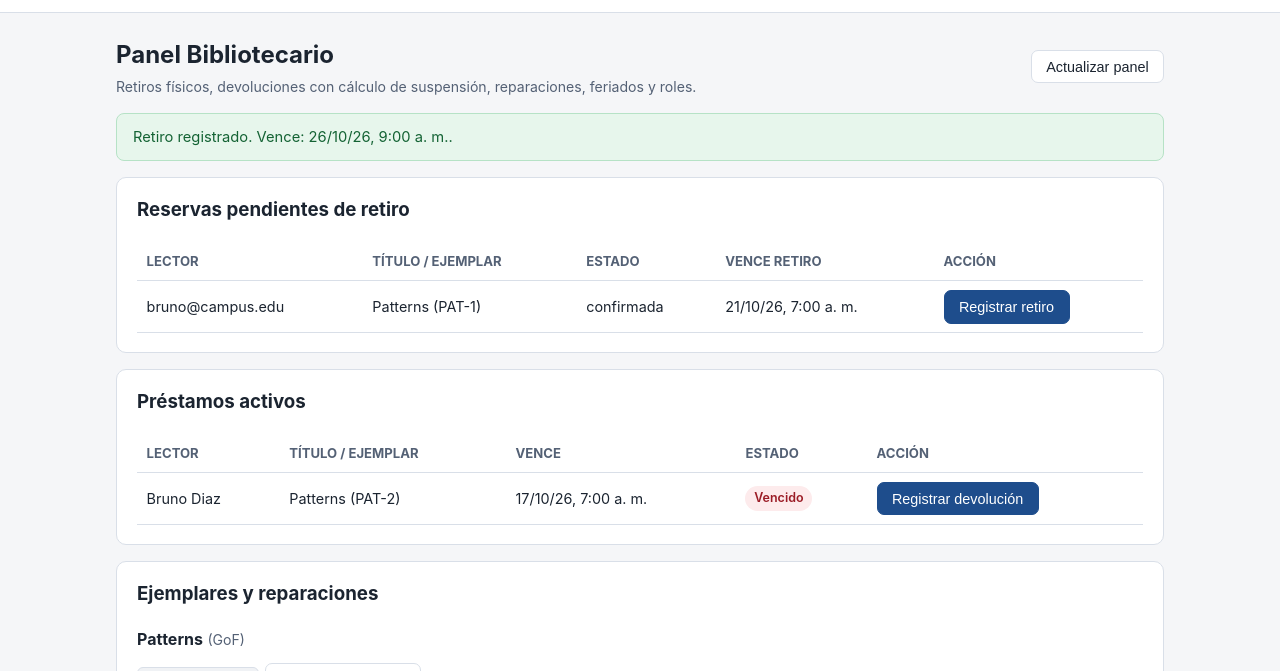
T-17 — Panel de Bibliotecario › permite al Bibliotecario registrar retiro, devolución, reparación, feriado y cambio de rol
This screenshot has width=1280, height=671.
Earlier steps of the test are not shown.
expect the text "Retiro registrado. Vence: 26/10/26, 9:00 a. m.." is shown: met, box 116,113 -> 1164,161
Click the button "Registrar devolución". click: (958, 499)
box: 877,482 -> 1039,515
(page scrolled)
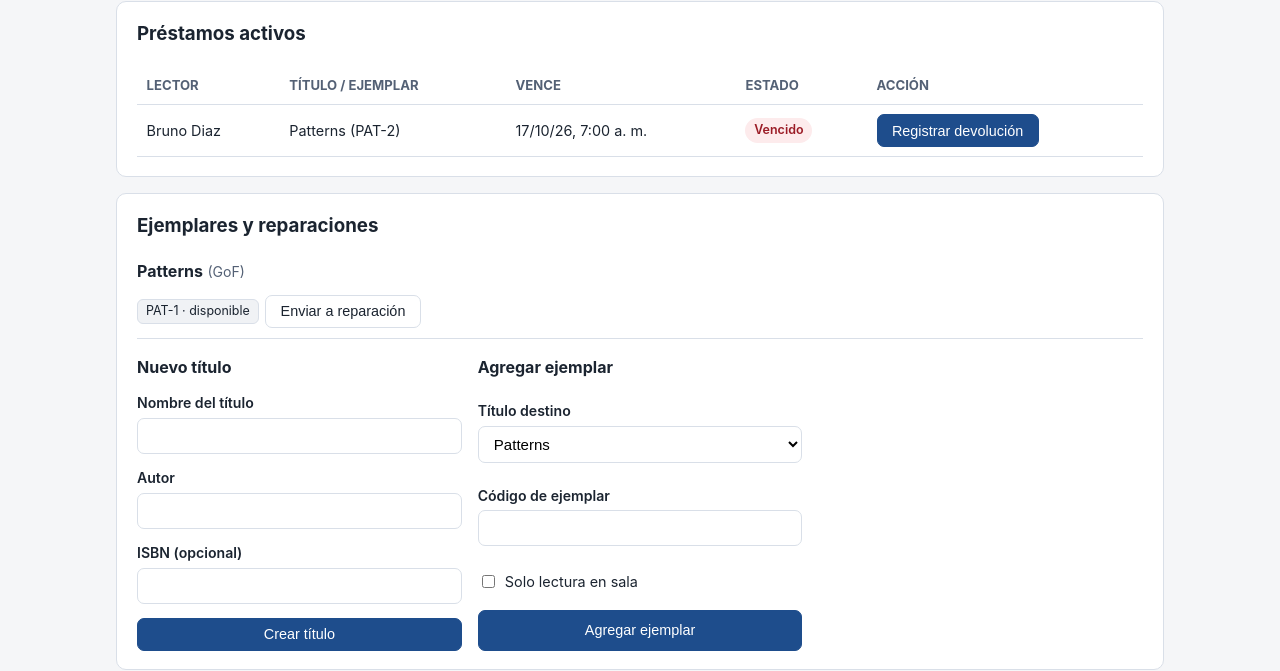
Click the button "Enviar a reparación". click: (343, 311)
box: 265,295 -> 421,328
(page scrolled)
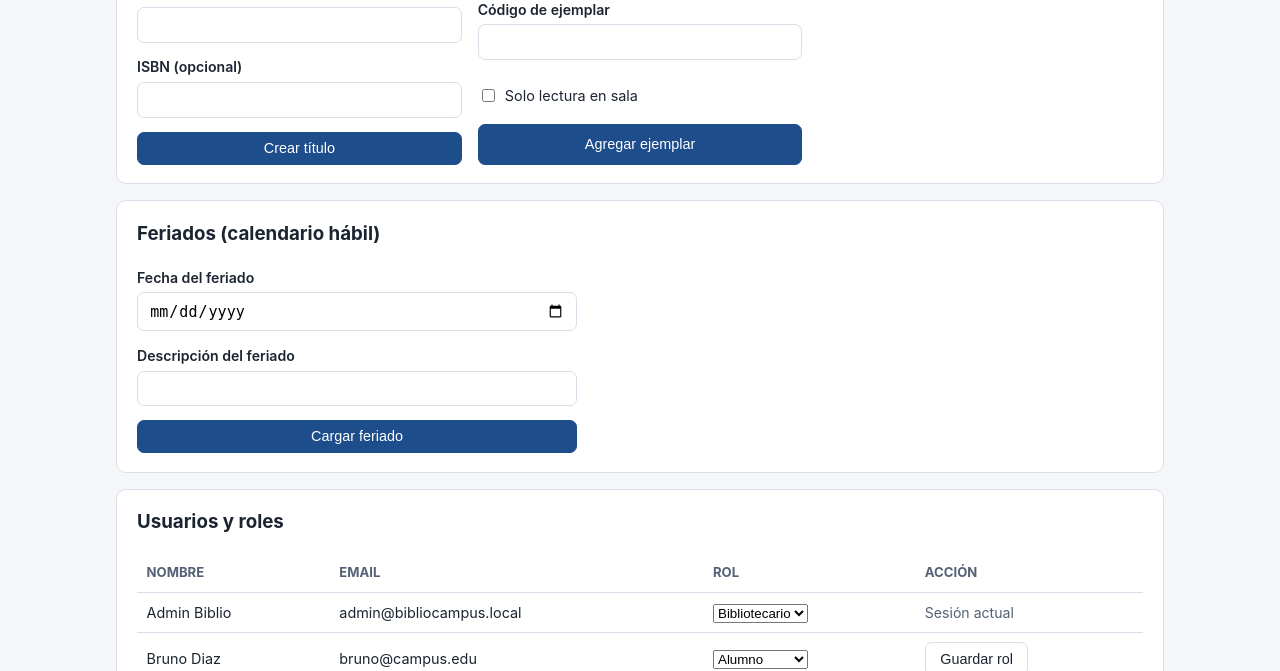
Type "2026-12-25" into the date field labelled "Fecha del feriado". click: (357, 312)
box: 137,292 -> 577,331
Type "Navidad" into the field labelled "Descripción del feriado". click: (357, 388)
box: 137,370 -> 577,406
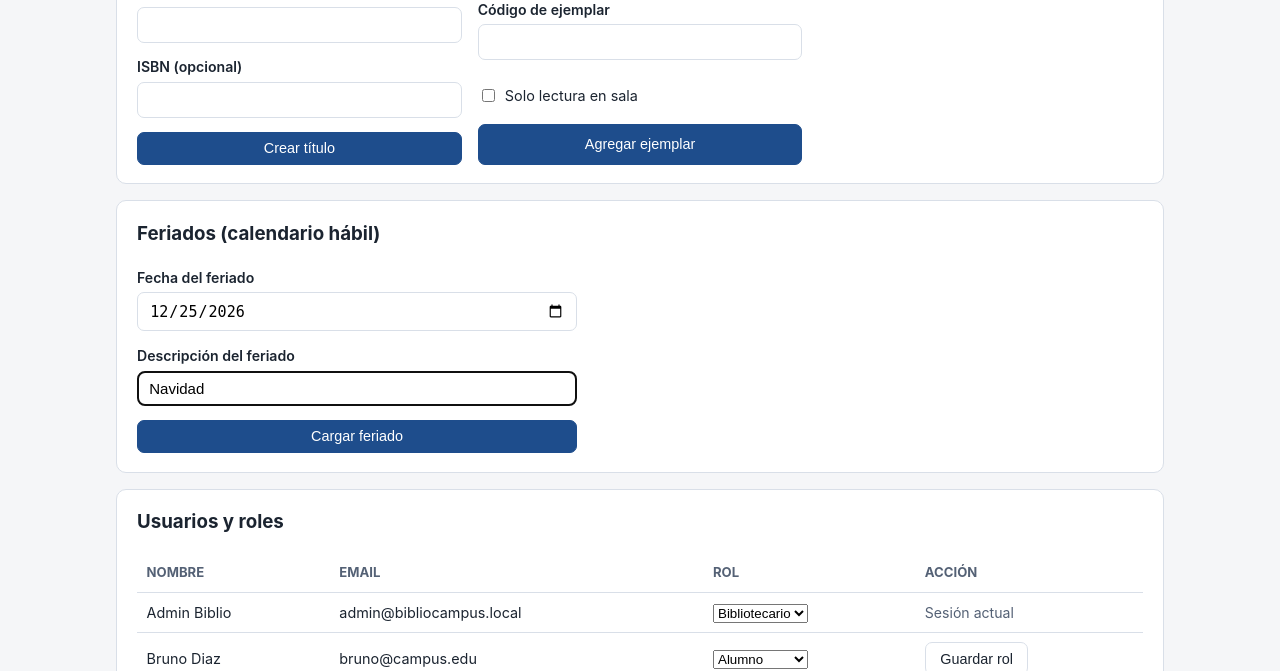
Click the button "Cargar feriado". click: (357, 436)
box: 137,420 -> 577,453
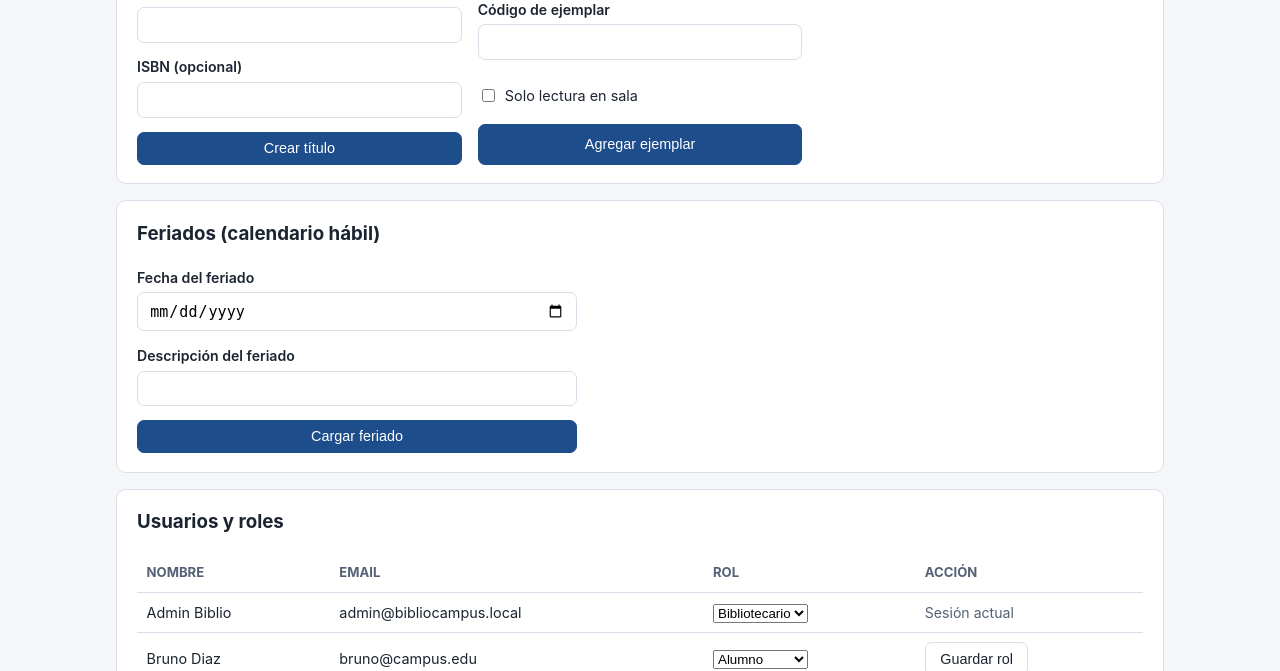
Select "Docente" in the dropdown named "Rol de Bruno Diaz". click: (760, 659)
box: 713,650 -> 808,669
(page scrolled)
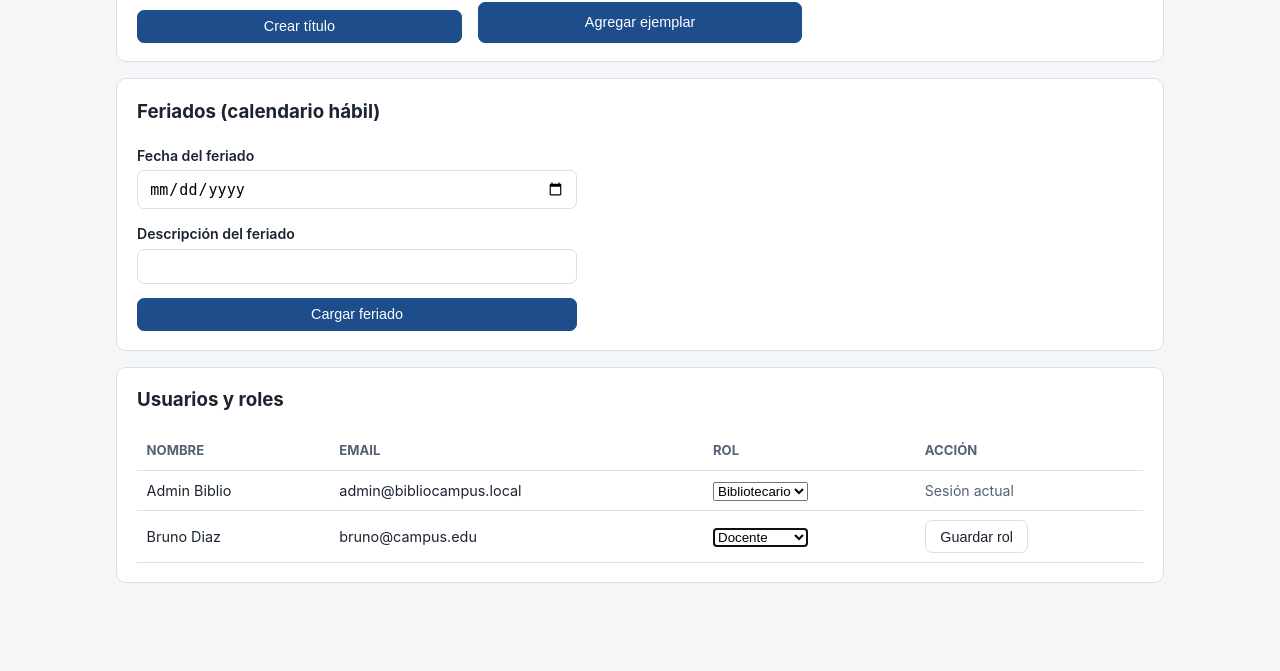
Click the button "Guardar rol". click: (977, 537)
box: 925,520 -> 1028,553
(page scrolled)
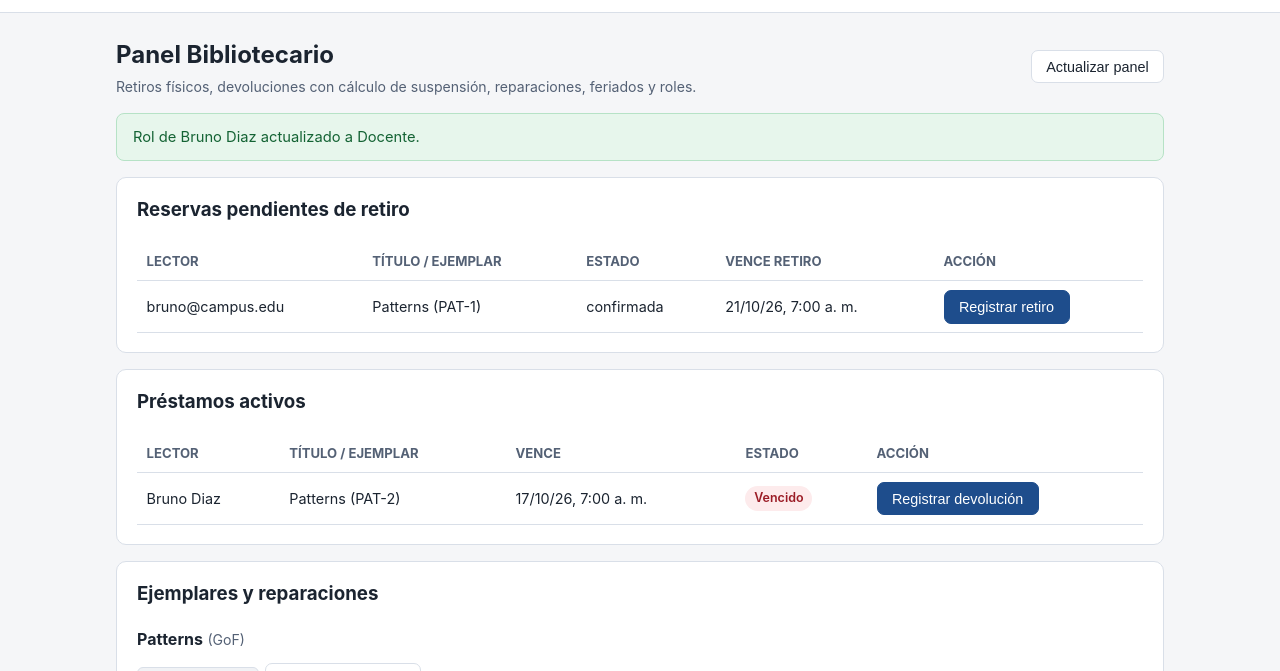
expect the text "Rol de Bruno Diaz actualizado a Docente." is shown: met, box 116,113 -> 1164,161
